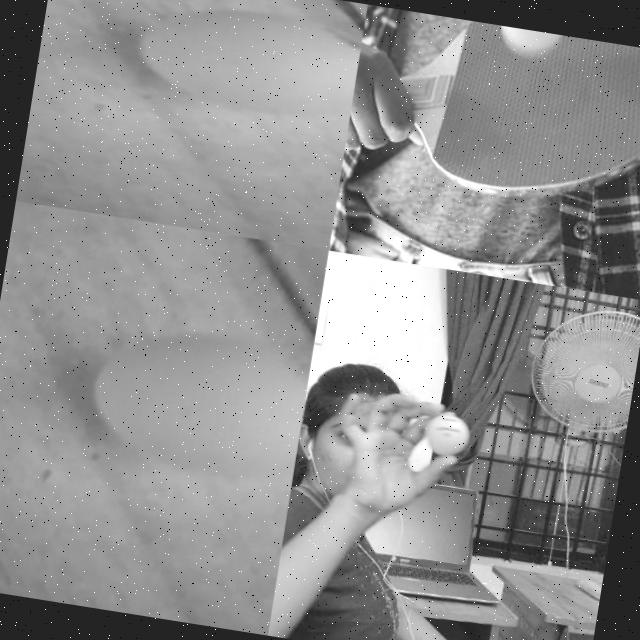ping-pong-ball: (80, 316, 311, 488), (131, 0, 362, 125), (496, 24, 562, 59), (420, 411, 470, 456)
